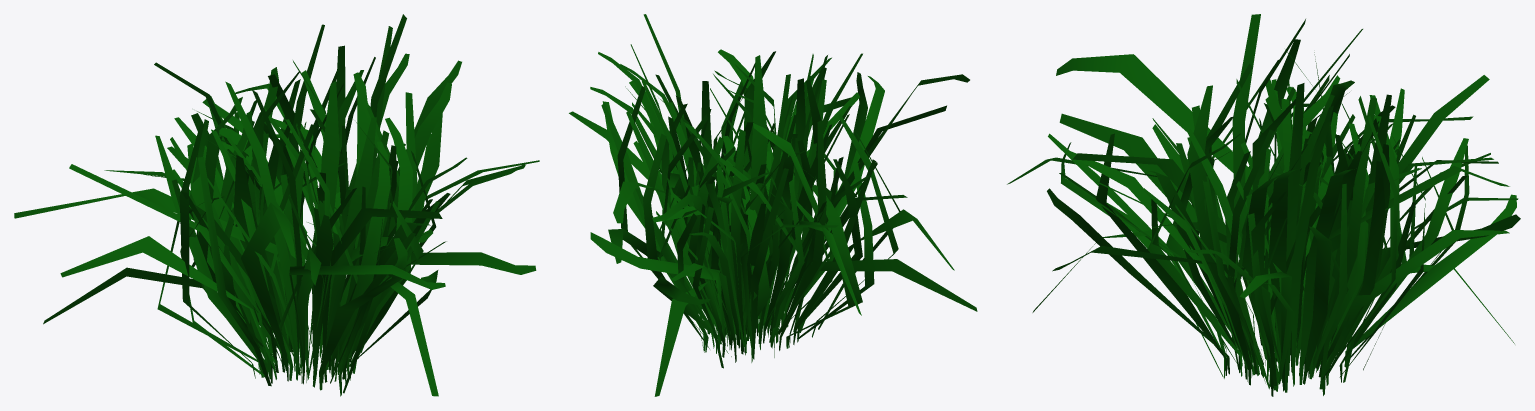
The model's file is grass.fbx.
3 renders of one model, left to right at view 1: azimuth 30°, elevation 25°; view 2: azimuth 150°, elevation 25°; view 3: azimuth 270°, elevation 25°, orthographic. The views are drawn at different scales.
Parts seen in each view (by area): view 1: High grass clump; view 2: High grass clump; view 3: High grass clump.
Boxes of the visible parts, bbox=[...] form: High grass clump: bbox=[14, 14, 539, 396]; High grass clump: bbox=[569, 14, 977, 396]; High grass clump: bbox=[1007, 14, 1520, 396].
Size of the model in its own units: 395 by 271 by 359.
